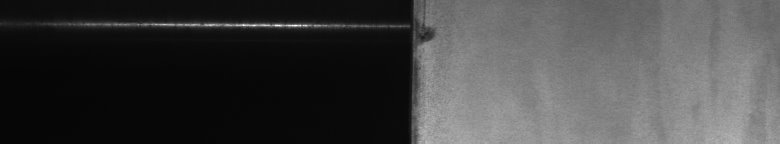hb: (424, 4, 444, 52)
